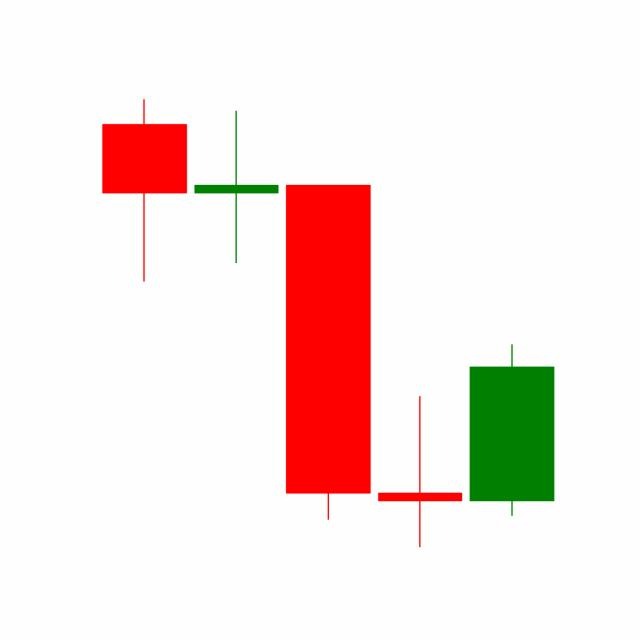Marubozu: (464, 342, 558, 518)
